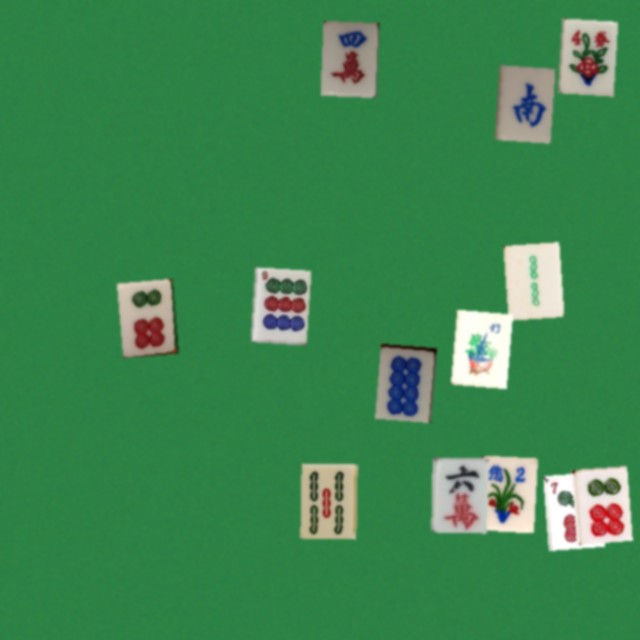tile: (543, 471, 599, 546), (250, 267, 306, 342), (494, 65, 550, 140), (116, 278, 172, 353), (300, 463, 356, 538), (375, 343, 431, 418), (571, 465, 627, 540), (477, 455, 533, 530), (503, 242, 559, 317), (320, 20, 376, 95), (557, 18, 613, 93), (450, 309, 506, 384), (431, 457, 487, 532)
